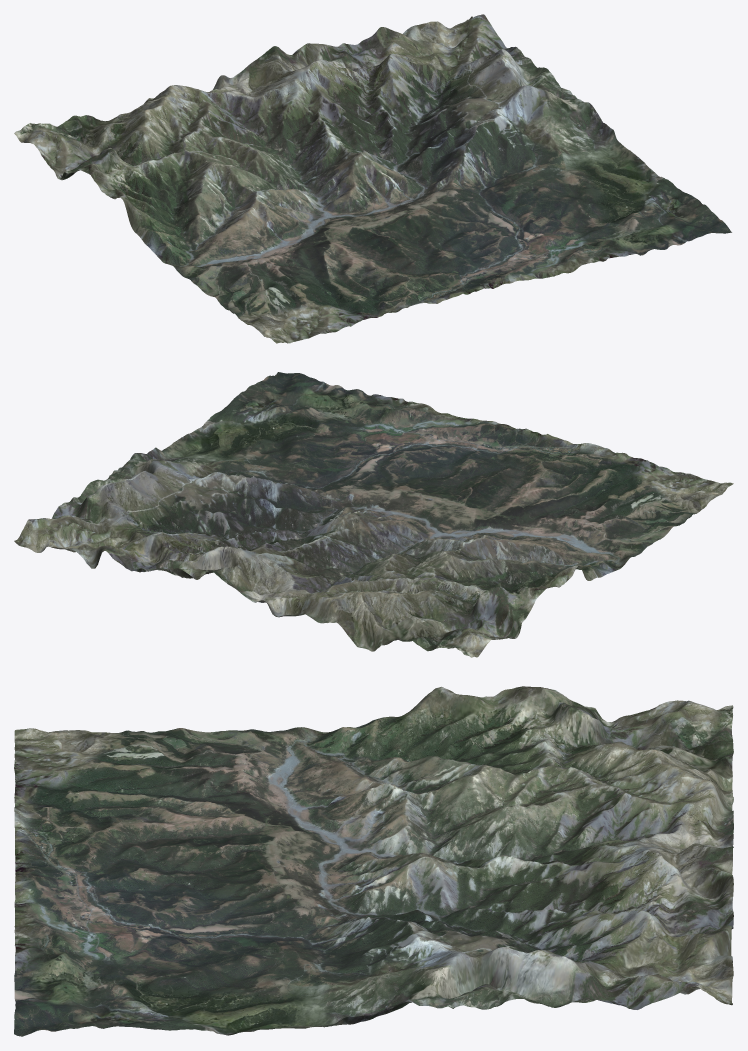
File: grassy_mountains_geo.glb
3 renders of one model, top to bottom at view 1: azimuth 30°, elevation 25°; view 2: azimuth 150°, elevation 25°; view 3: azimuth 270°, elevation 25°, orthographic. The views are drawn at different scales.
Parts seen in each view (by area): view 1: 04 - NEW ZELAND; view 2: 04 - NEW ZELAND; view 3: 04 - NEW ZELAND.
Part boxes in pixels (<box>): 04 - NEW ZELAND: <box>14,14,731,343</box>; 04 - NEW ZELAND: <box>14,372,733,657</box>; 04 - NEW ZELAND: <box>14,686,733,1036</box>.
Size of the model in its own units: 491581 by 49088 by 488871.
1 material, 1 textured.
